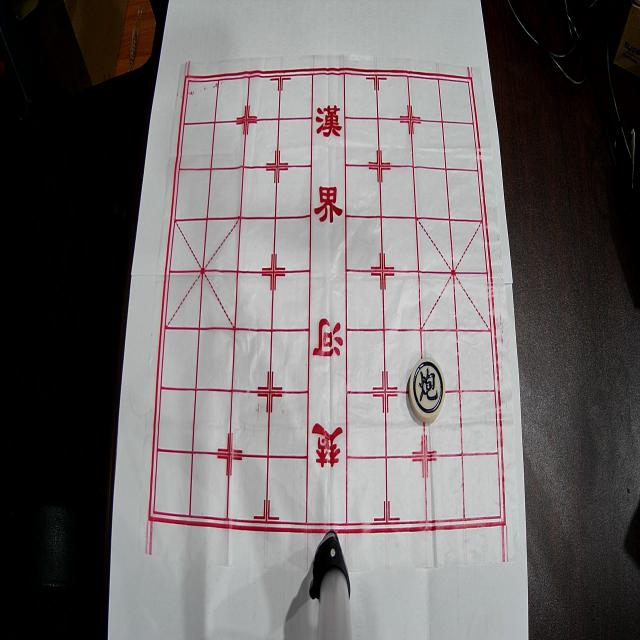black-cannon: (409, 358, 445, 422)
